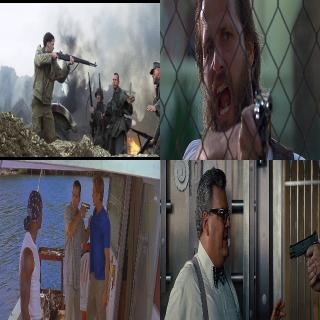gun: (287, 220, 319, 292), (251, 84, 277, 160), (44, 48, 96, 72), (97, 72, 105, 146), (129, 125, 156, 145), (86, 71, 94, 137), (134, 135, 150, 153), (80, 196, 90, 218)
